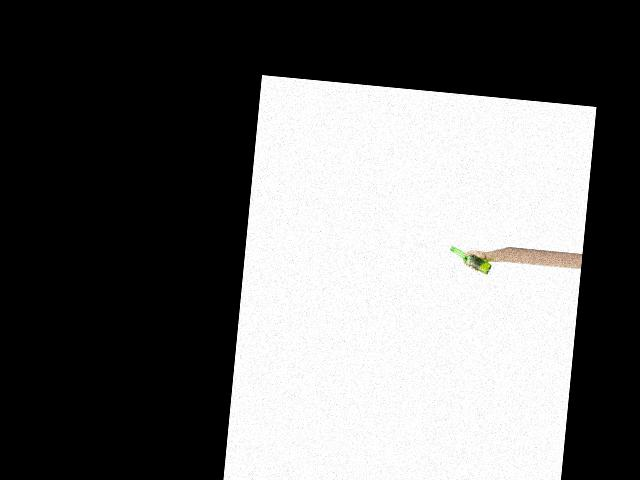beer: (448, 245, 493, 274)
